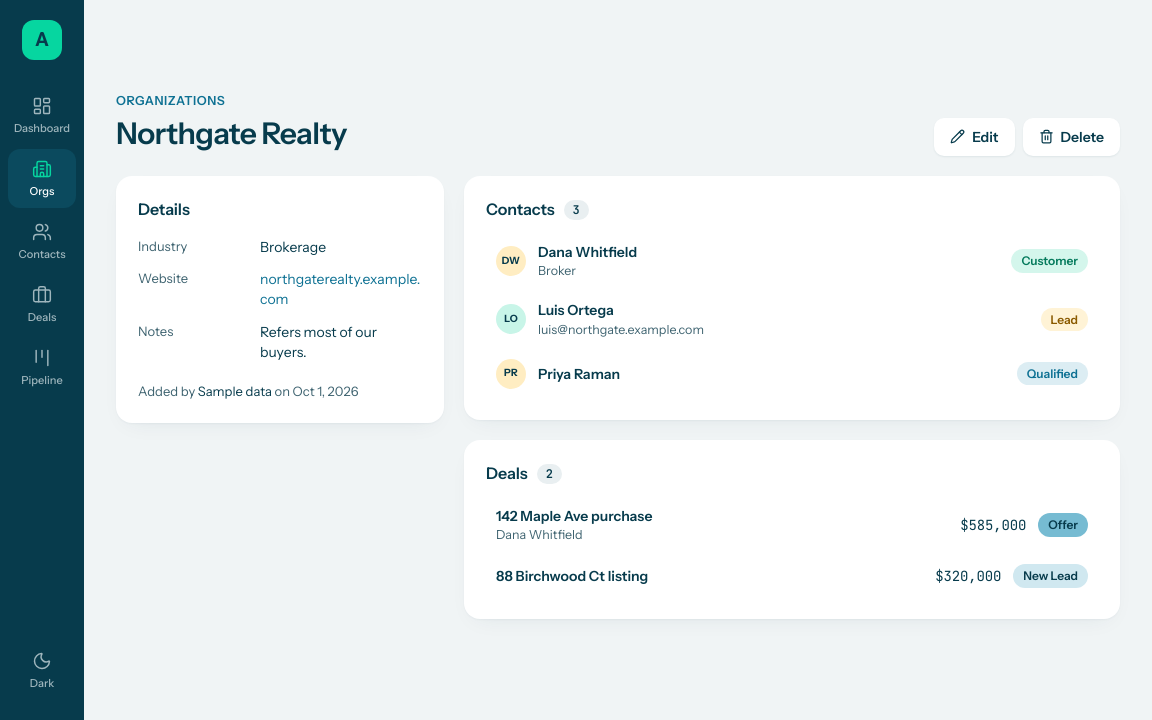
Test: an organization's page › edits the organization and shows the saved details
Step 1. Click the button "Edit" → (974, 137), box [934,118,1014,156]
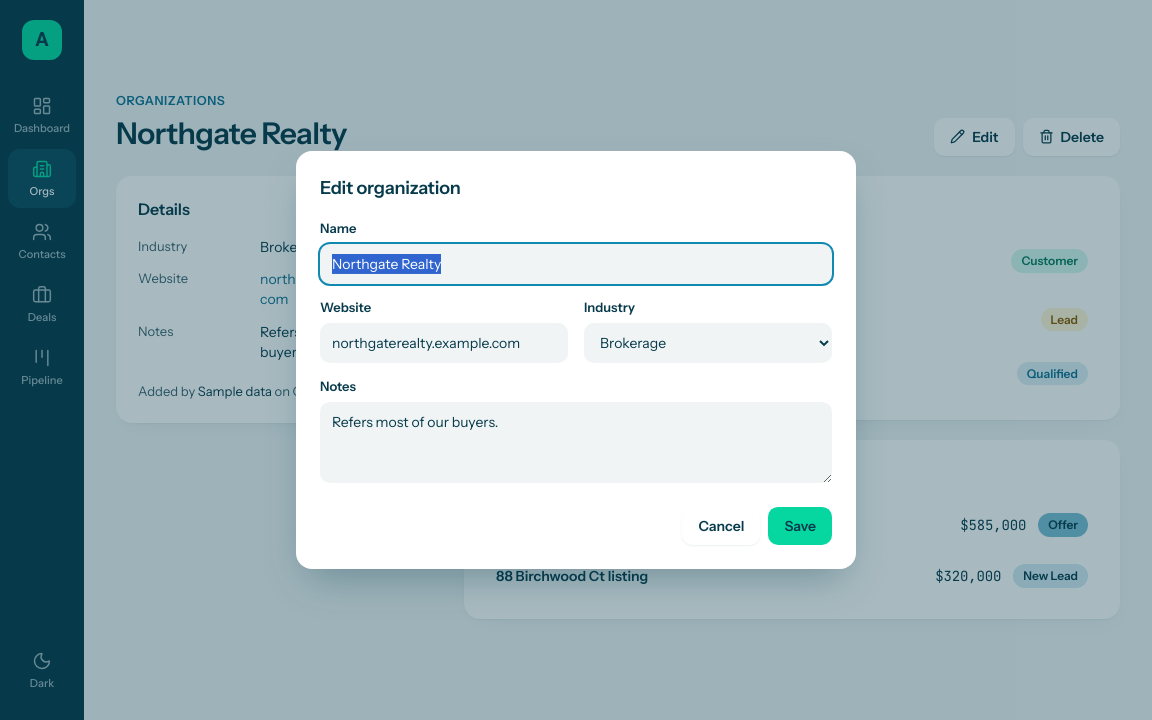
Check: the field labelled "Website" holds "northgaterealty.example.com", box [320,323,568,363]
Step 2. Select "Relocation" in the dropdown labelled "Industry" → (708, 343), box [584,323,832,363]
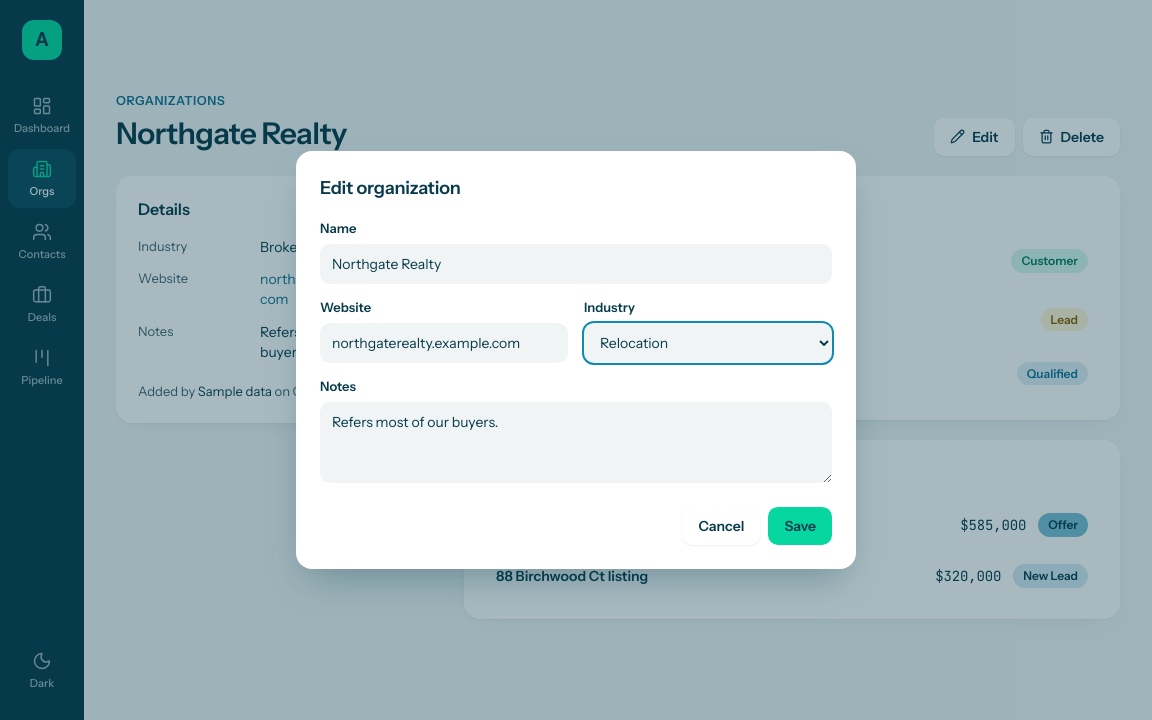
Step 3. Click the button "Save" → (800, 526), box [768,507,832,545]
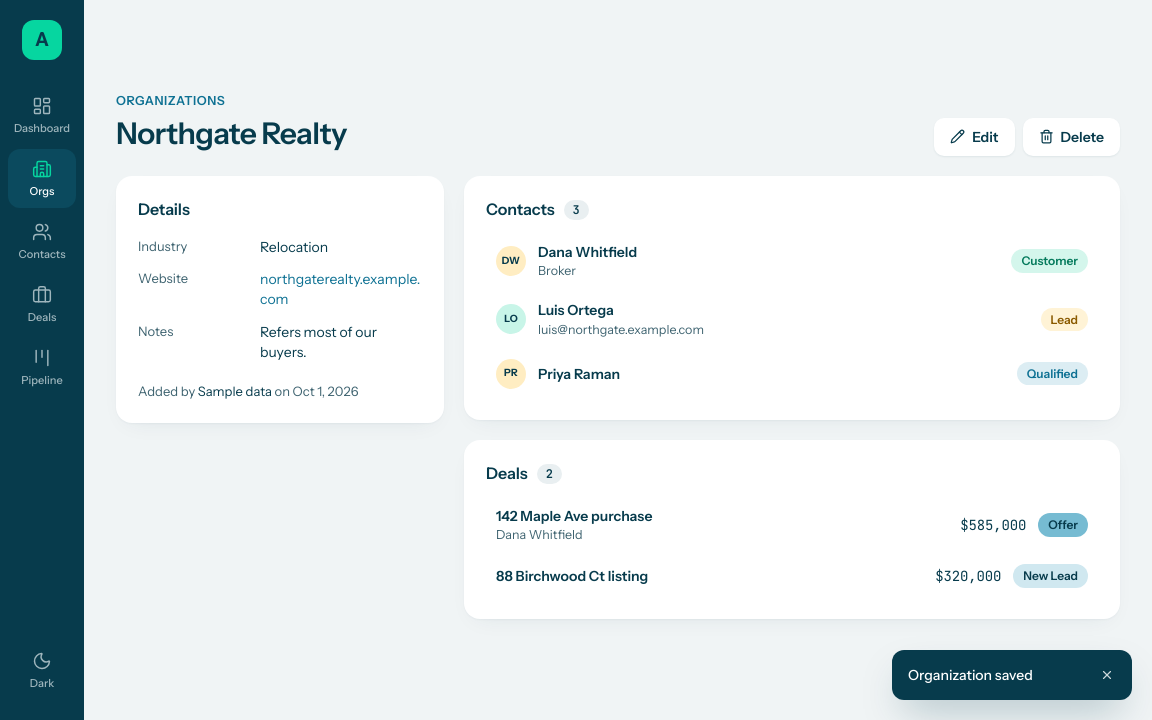
Check: the text "Relocation" is shown, box [260,238,328,256]
Check: the dialog is gone
Check: the text "Organization saved" is shown, box [908,666,1033,684]
